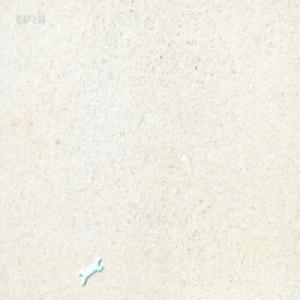Wrench: (79, 257, 103, 286)
